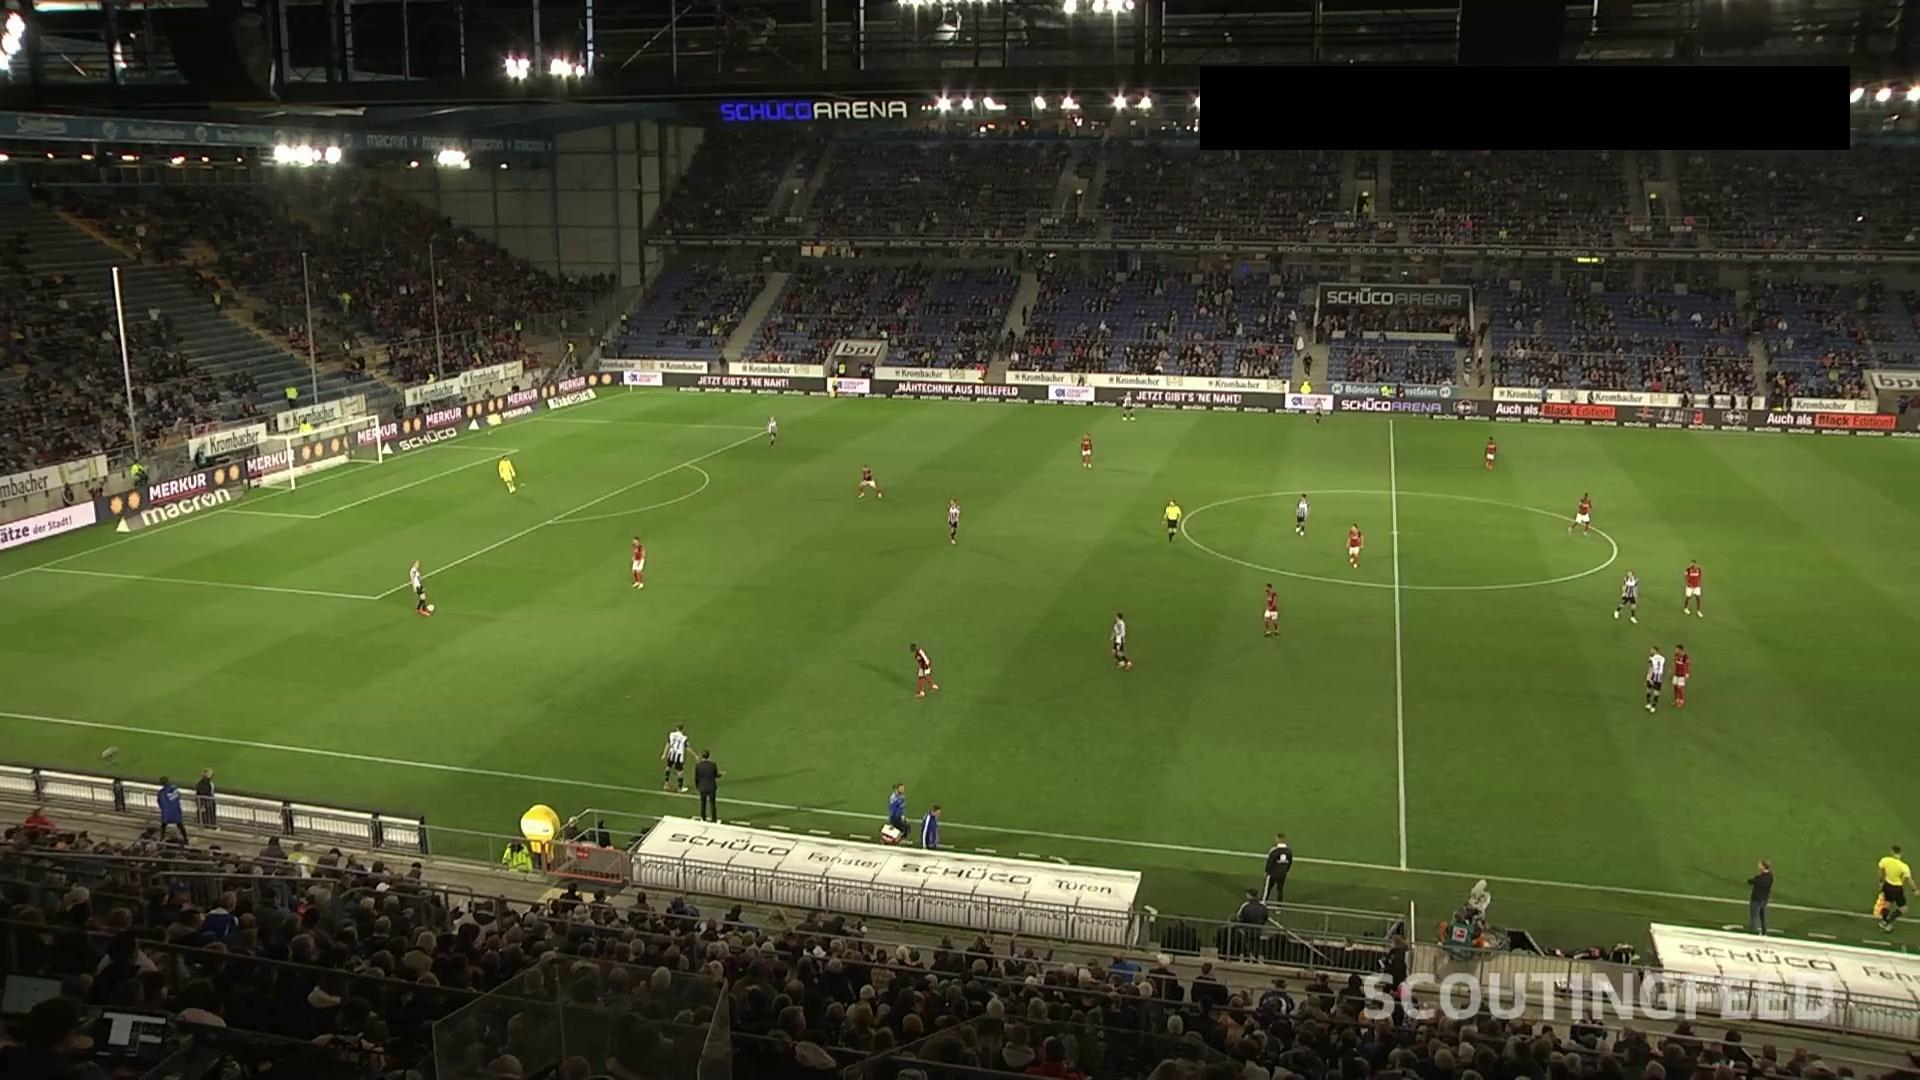Location-of-ball: (422, 593, 451, 617)
